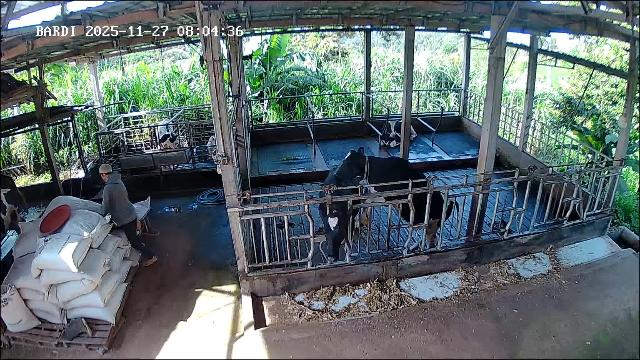mounting: (336, 145, 455, 251)
